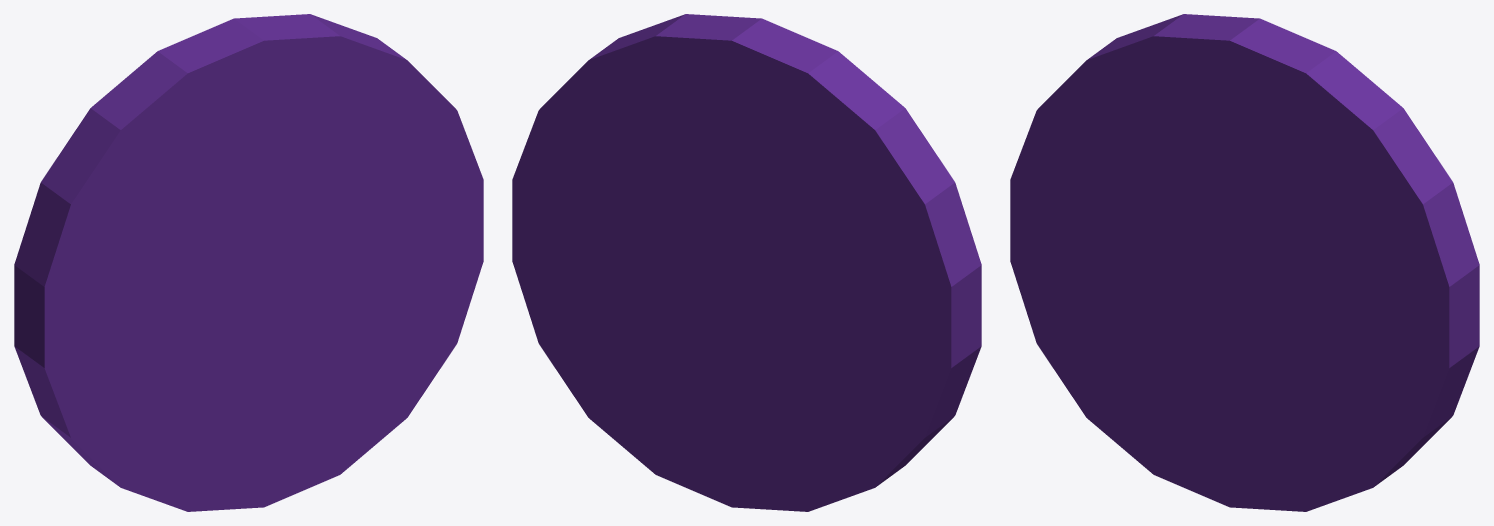
File: coin.glb
3 views of the same model, side by side, from view 1: azimuth 30°, elevation 25°; view 2: azimuth 150°, elevation 25°; view 3: azimuth 330°, elevation 25° (orthographic).
Parts seen in each view (by area): view 1: coin; view 2: coin; view 3: coin.
Boxes of the visible parts, x1=… form: coin: x1=14, y1=14, x2=483, y2=511; coin: x1=512, y1=14, x2=981, y2=511; coin: x1=1010, y1=14, x2=1479, y2=511.
Bounding box in the file's own units: 0.6697 × 0.68 × 0.08.
